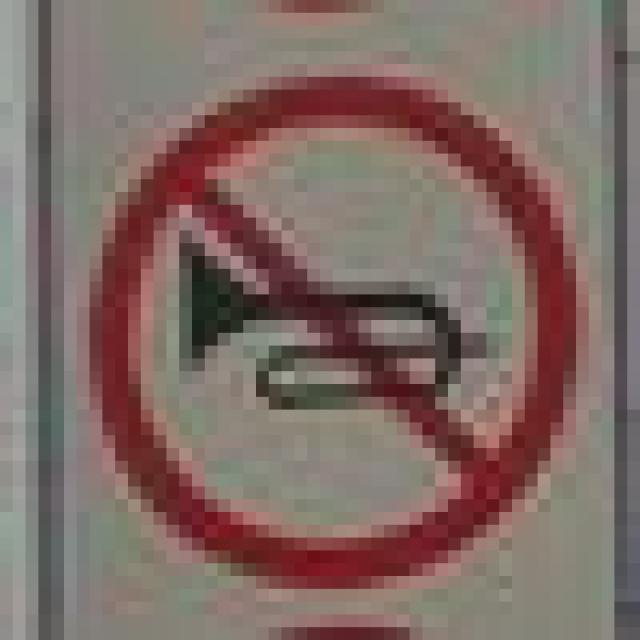HORN_PROHIBITED: (77, 51, 576, 576)
